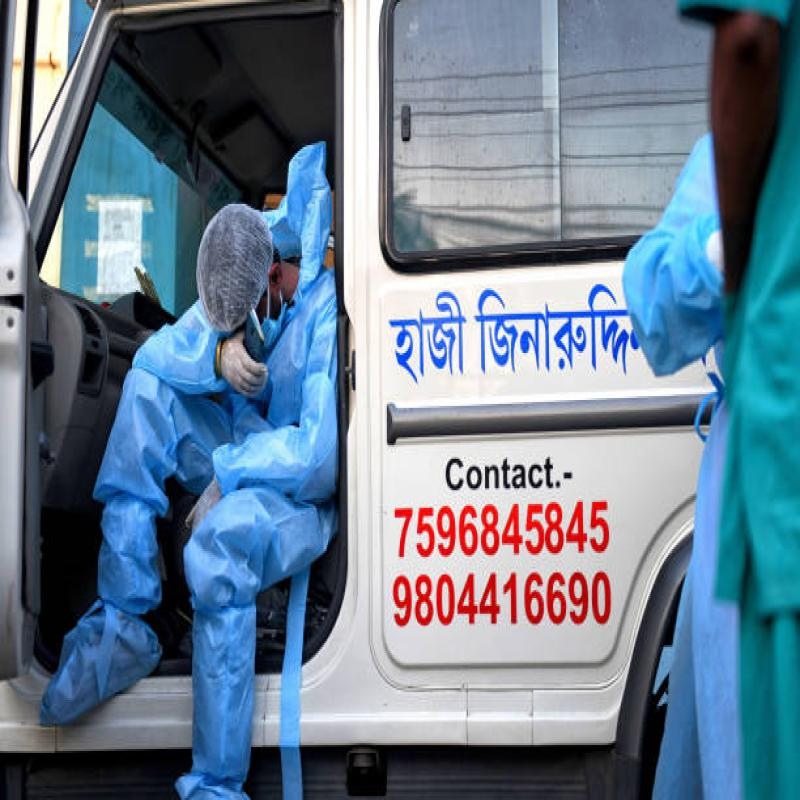ambulance: (343, 35, 610, 740)
